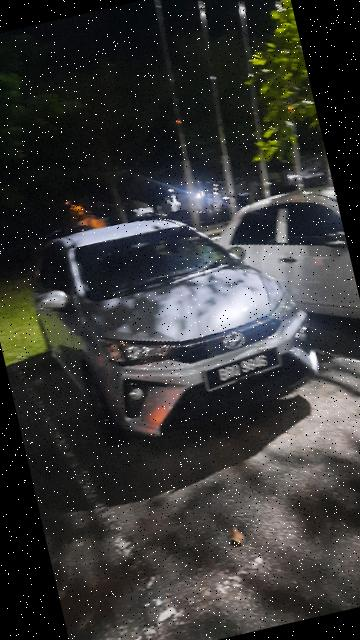License_Plate: (200, 344, 288, 392)
car: (18, 183, 330, 461), (210, 178, 360, 350)
